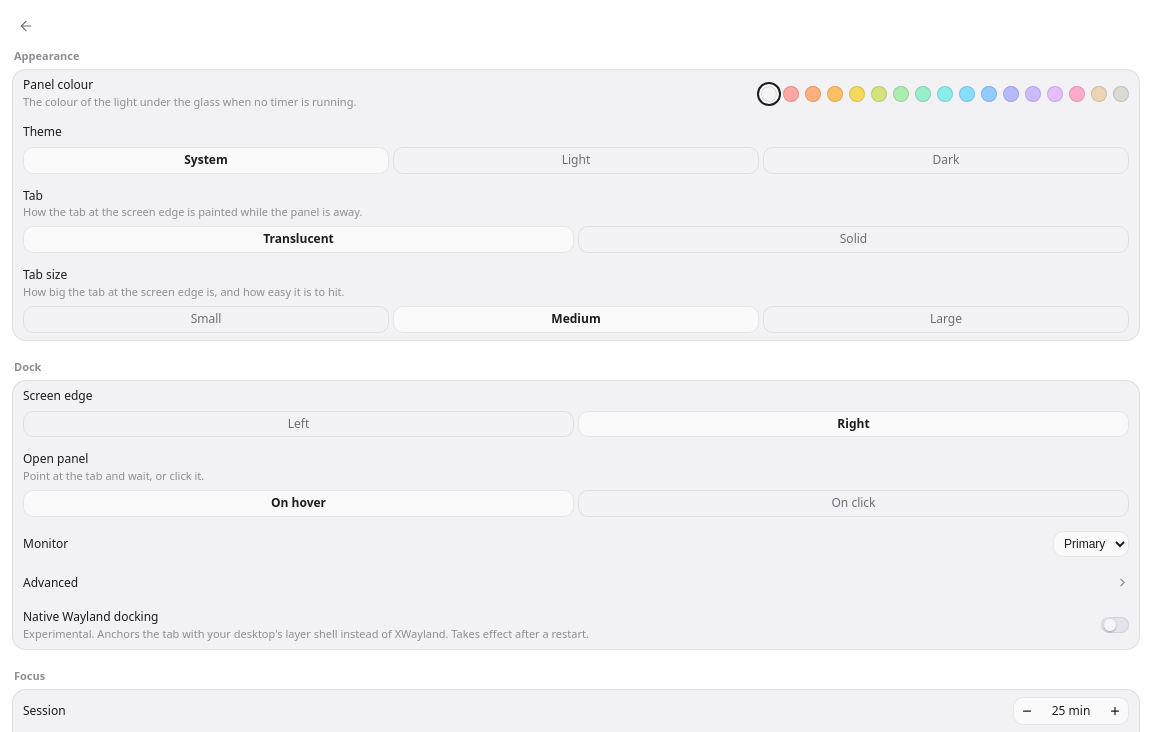
native Wayland docking › asks for it from the next launch
The image size is (1152, 732).
Click the switch named "Native Wayland docking" at (1115, 625), box [1101, 617, 1129, 633]
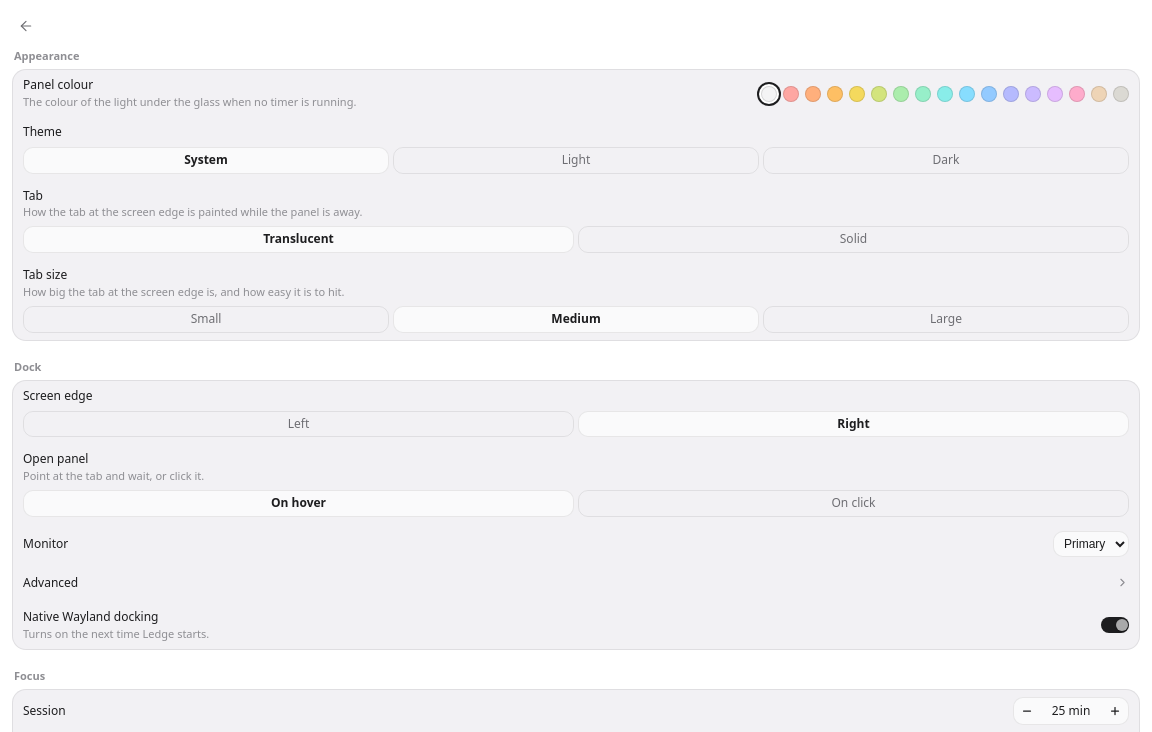
Now the text "Turns on the next time Ledge starts." is shown, box [23, 627, 209, 642]
